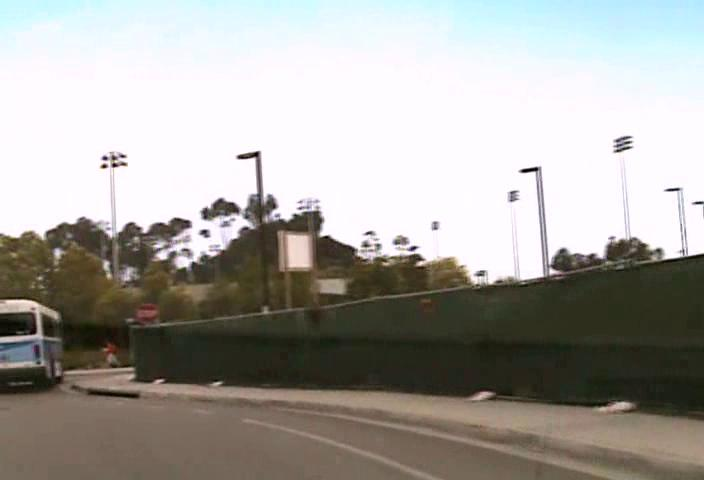stop: (133, 300, 158, 325)
